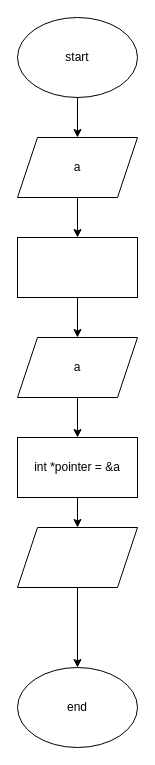
This 155x765 diagram has some shape labels left out. The centre of each missing label's shape, as x and y in pixels:
"*pointer" goes at point 77,557.
"printA(&a)" goes at point 77,267.
